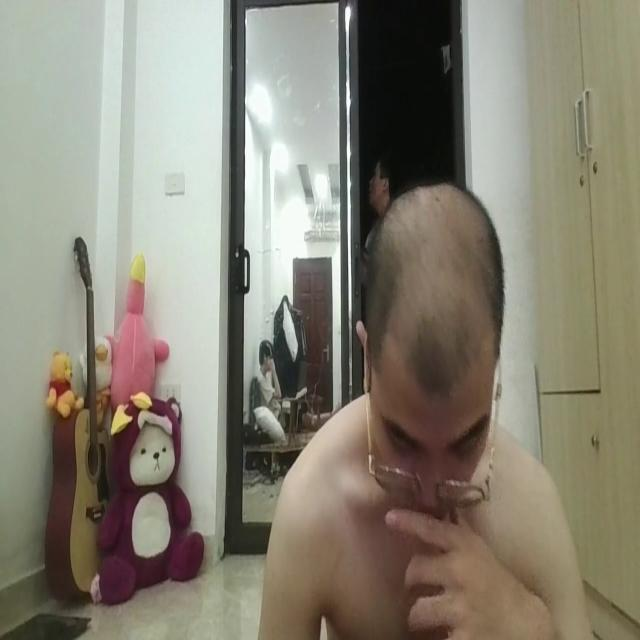extra_person: (256, 318, 278, 417)
student: (258, 181, 608, 640)
